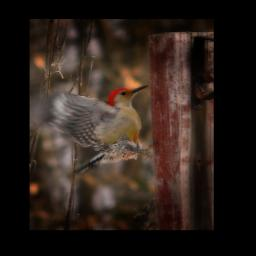Woodpecker: (32, 83, 150, 175)
